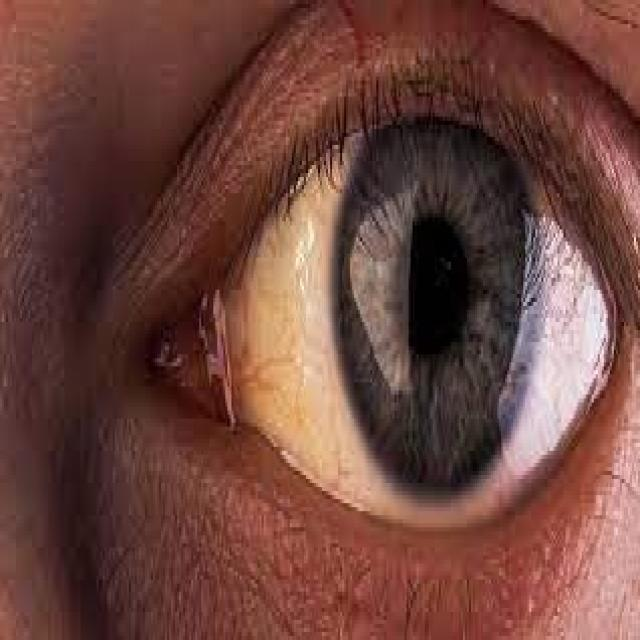Eyes-iris: (324, 110, 546, 517)
